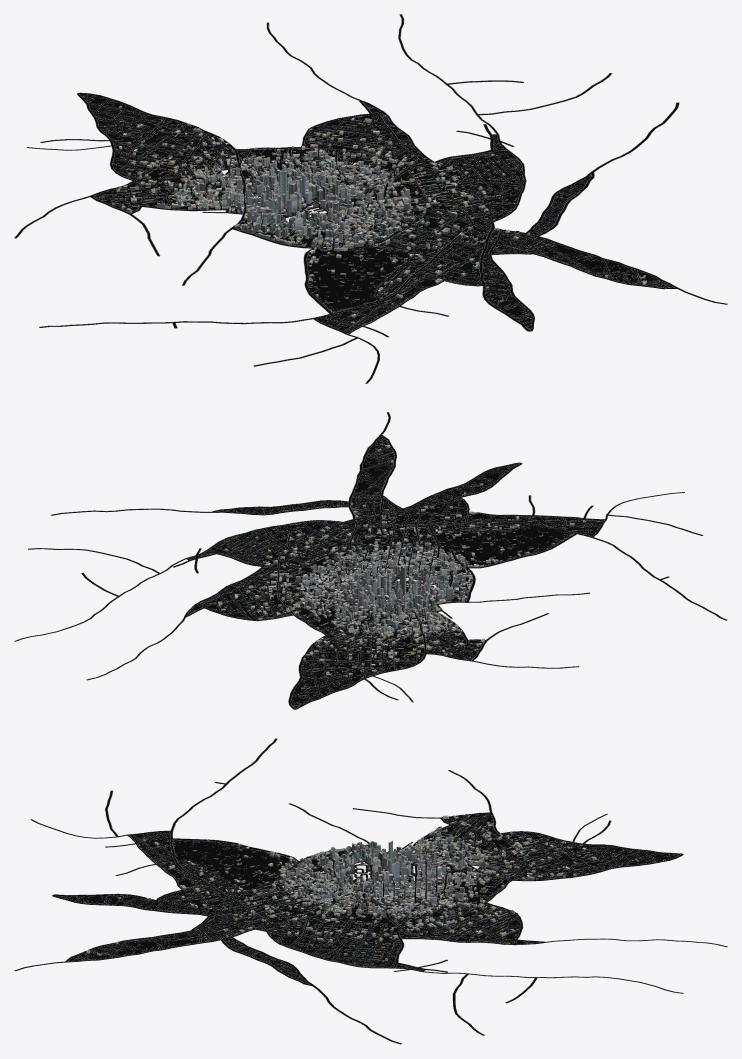
The model's file is compressed_city_background.glb.
3 renders of one model, top to bottom at view 1: azimuth 30°, elevation 25°; view 2: azimuth 150°, elevation 25°; view 3: azimuth 270°, elevation 25°, orthographic. The views are drawn at different scales.
Parts seen in each view (by area): view 1: RoofPlane_RoofPlane_42_mat_0, Pavement_Pavement_mat_0, FacadeTexture_FacadeTexture_2_mat_0, Curbs_Curbs_mat_0, FacadeTexture_FacadeTexture_6_mat_0, FacadeTexture_FacadeTexture_25_mat_0, FacadeTexture_FacadeTexture_16_mat_0, FacadeTexture_FacadeTexture_13_mat_0, FacadeTexture_FacadeTexture_11_mat_0, FacadeTexture_FacadeTexture_8_mat_0, FacadeTexture_FacadeTexture_mat_0, FacadeTexture_FacadeTexture_18_mat_0 (+18 smaller); view 2: RoofPlane_RoofPlane_42_mat_0, Pavement_Pavement_mat_0, FacadeTexture_FacadeTexture_2_mat_0, FacadeTexture_FacadeTexture_6_mat_0, Curbs_Curbs_mat_0, FacadeTexture_FacadeTexture_13_mat_0, FacadeTexture_FacadeTexture_25_mat_0, FacadeTexture_FacadeTexture_11_mat_0, FacadeTexture_FacadeTexture_8_mat_0, FacadeTexture_FacadeTexture_7_mat_0, FacadeTexture_FacadeTexture_16_mat_0, FacadeTexture_FacadeTexture_18_mat_0 (+17 smaller); view 3: RoofPlane_RoofPlane_42_mat_0, Pavement_Pavement_mat_0, FacadeTexture_FacadeTexture_2_mat_0, FacadeTexture_FacadeTexture_6_mat_0, Curbs_Curbs_mat_0, FacadeTexture_FacadeTexture_25_mat_0, FacadeTexture_FacadeTexture_11_mat_0, FacadeTexture_FacadeTexture_13_mat_0, FacadeTexture_FacadeTexture_8_mat_0, FacadeTexture_FacadeTexture_mat_0, FacadeTexture_FacadeTexture_7_mat_0, FacadeTexture_FacadeTexture_16_mat_0 (+17 smaller).
Part boxes in pixels (x1,y1,x2,y2): RoofPlane_RoofPlane_42_mat_0: (14, 14, 727, 383); Pavement_Pavement_mat_0: (14, 14, 726, 382); FacadeTexture_FacadeTexture_2_mat_0: (101, 104, 665, 326); Curbs_Curbs_mat_0: (15, 18, 727, 383); FacadeTexture_FacadeTexture_6_mat_0: (90, 102, 655, 328); FacadeTexture_FacadeTexture_25_mat_0: (105, 114, 586, 327); FacadeTexture_FacadeTexture_16_mat_0: (102, 101, 558, 324); FacadeTexture_FacadeTexture_13_mat_0: (88, 99, 629, 322); FacadeTexture_FacadeTexture_11_mat_0: (82, 96, 555, 333); FacadeTexture_FacadeTexture_8_mat_0: (99, 97, 613, 325); FacadeTexture_FacadeTexture_mat_0: (91, 103, 657, 329); FacadeTexture_FacadeTexture_18_mat_0: (99, 110, 654, 324); RoofPlane_RoofPlane_42_mat_0: (14, 412, 727, 709); Pavement_Pavement_mat_0: (15, 412, 726, 709); FacadeTexture_FacadeTexture_2_mat_0: (190, 440, 593, 693); FacadeTexture_FacadeTexture_6_mat_0: (203, 446, 592, 699); Curbs_Curbs_mat_0: (19, 414, 723, 708); FacadeTexture_FacadeTexture_13_mat_0: (226, 459, 584, 702); FacadeTexture_FacadeTexture_25_mat_0: (220, 477, 599, 690); FacadeTexture_FacadeTexture_11_mat_0: (210, 474, 603, 706); FacadeTexture_FacadeTexture_8_mat_0: (219, 459, 597, 700); FacadeTexture_FacadeTexture_7_mat_0: (213, 482, 536, 704); FacadeTexture_FacadeTexture_16_mat_0: (190, 473, 593, 698); FacadeTexture_FacadeTexture_18_mat_0: (221, 445, 591, 695); RoofPlane_RoofPlane_42_mat_0: (14, 738, 727, 1044); Pavement_Pavement_mat_0: (16, 738, 727, 1044); FacadeTexture_FacadeTexture_2_mat_0: (63, 817, 646, 978); FacadeTexture_FacadeTexture_6_mat_0: (58, 815, 657, 971); Curbs_Curbs_mat_0: (31, 740, 725, 1042); FacadeTexture_FacadeTexture_25_mat_0: (122, 818, 633, 961); FacadeTexture_FacadeTexture_11_mat_0: (88, 819, 675, 965); FacadeTexture_FacadeTexture_13_mat_0: (121, 820, 664, 955); FacadeTexture_FacadeTexture_8_mat_0: (113, 825, 665, 968); FacadeTexture_FacadeTexture_mat_0: (64, 815, 658, 968); FacadeTexture_FacadeTexture_7_mat_0: (169, 821, 668, 959); FacadeTexture_FacadeTexture_16_mat_0: (85, 817, 658, 954).
Size of the model in its own units: 54.54 by 2.56 by 53.74.
Materials: 43 (42 with a texture image).
